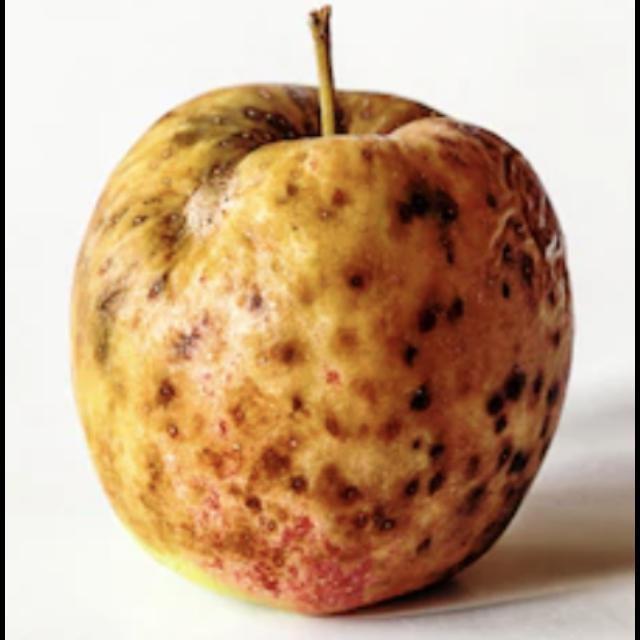Apel Tidak Segar: (64, 78, 580, 620)
